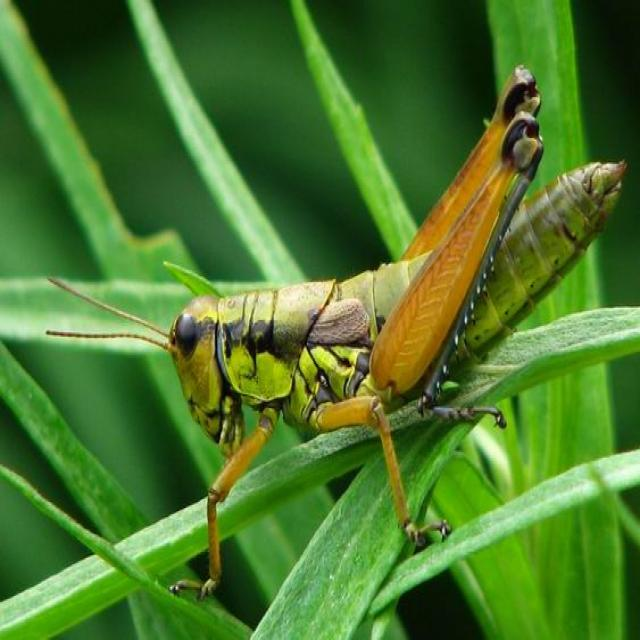ZhaMeng: (150, 64, 613, 545)
